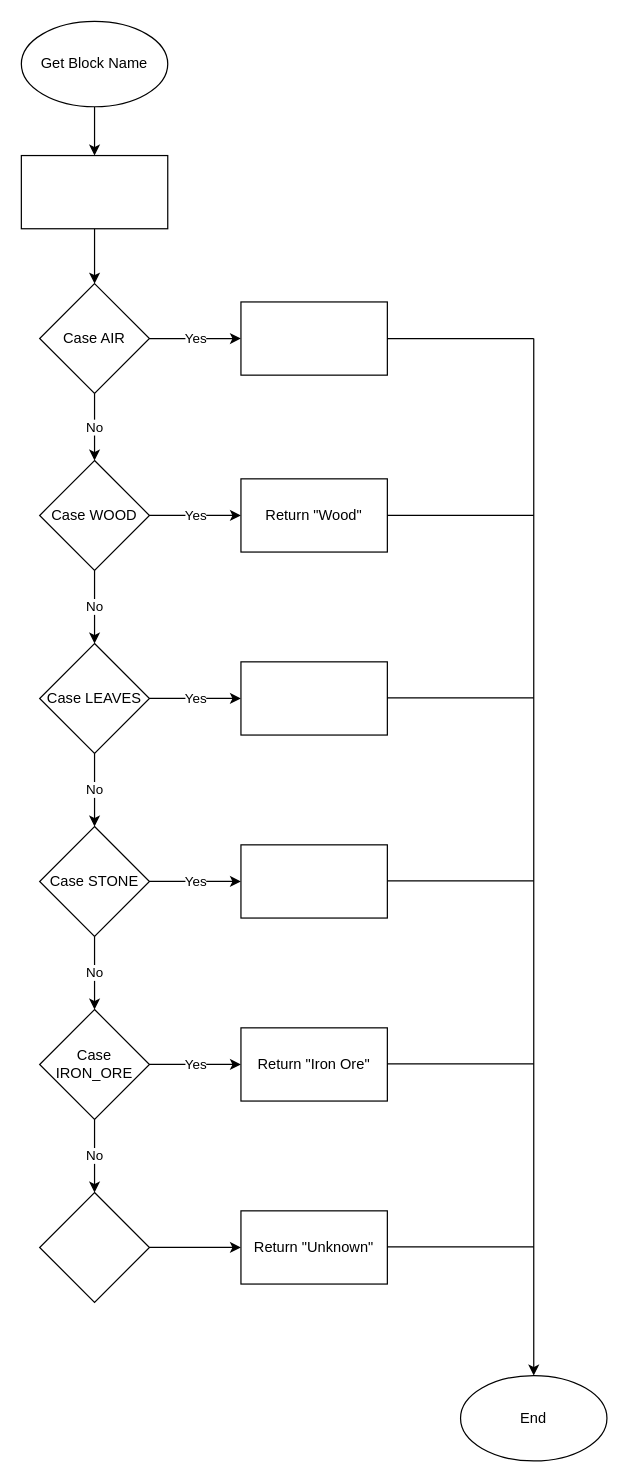
The diagram is 628 pixels wide and 1482 high, and some of its shapes have lost their labels. Here are the shapes that lost their labels. From the top down, the centre of each, then its label:
pixel 94 191: Switch Check for blockType
pixel 313 338: Return "Empty Block"
pixel 313 698: Return "Leaves"
pixel 313 881: Return "Stone"
pixel 93 1246: Default
